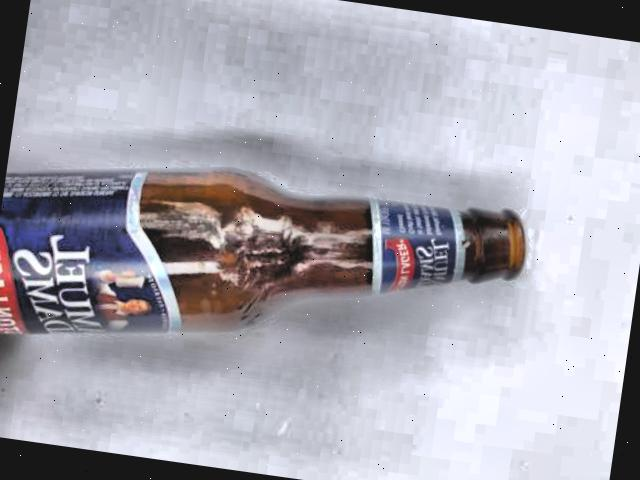Bottles: (0, 101, 551, 420)
